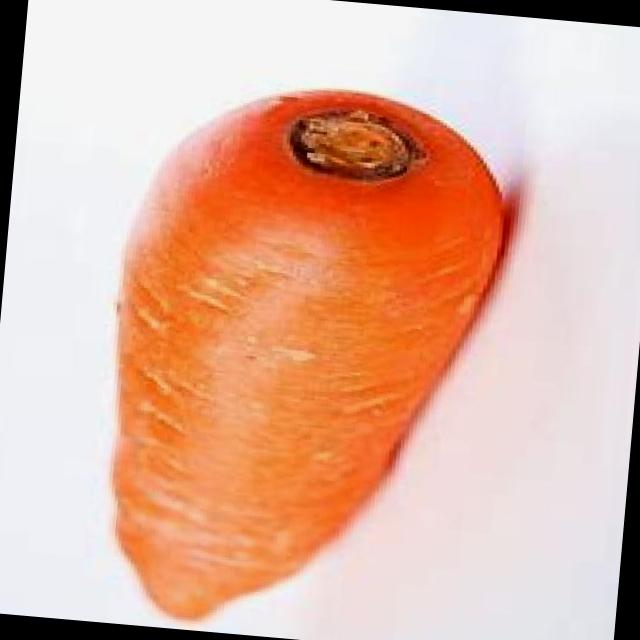carrot: (110, 84, 507, 622)
